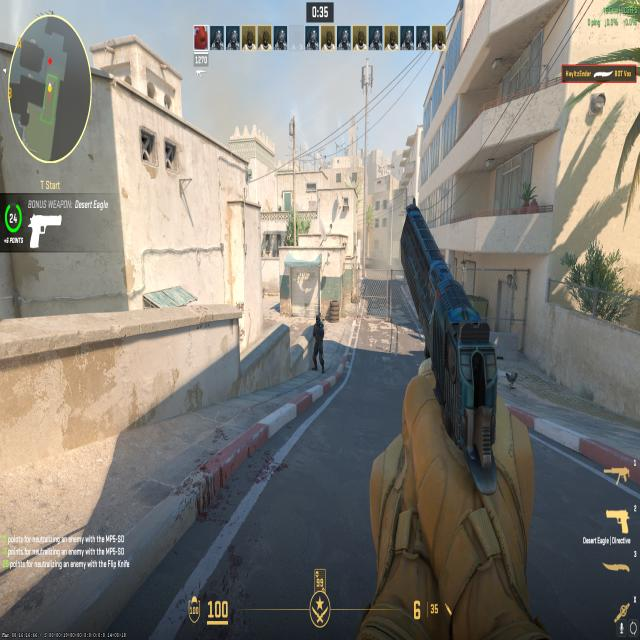ct: (307, 307, 332, 378)
